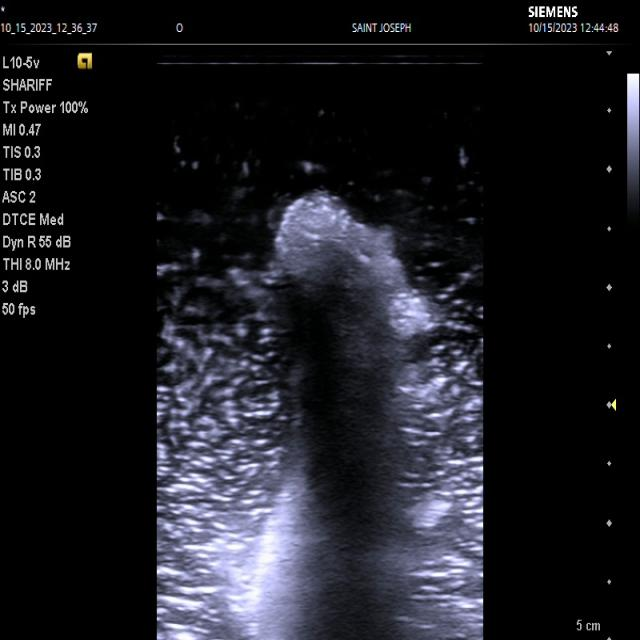tissue: (250, 188, 485, 640)
